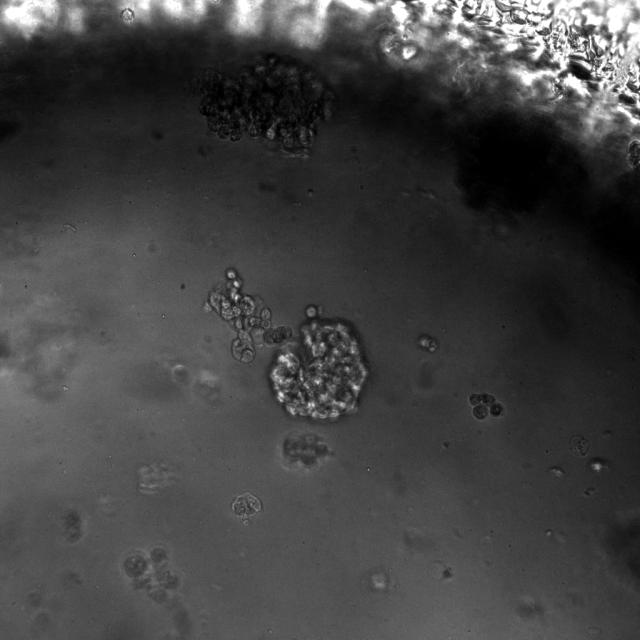organoid: (192, 55, 333, 157), (269, 304, 368, 420), (201, 267, 293, 365), (122, 547, 179, 603), (232, 492, 262, 525), (469, 393, 504, 420)
